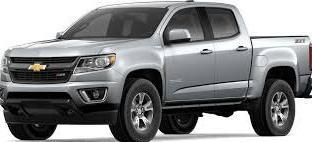Trucks: (1, 3, 312, 142)
